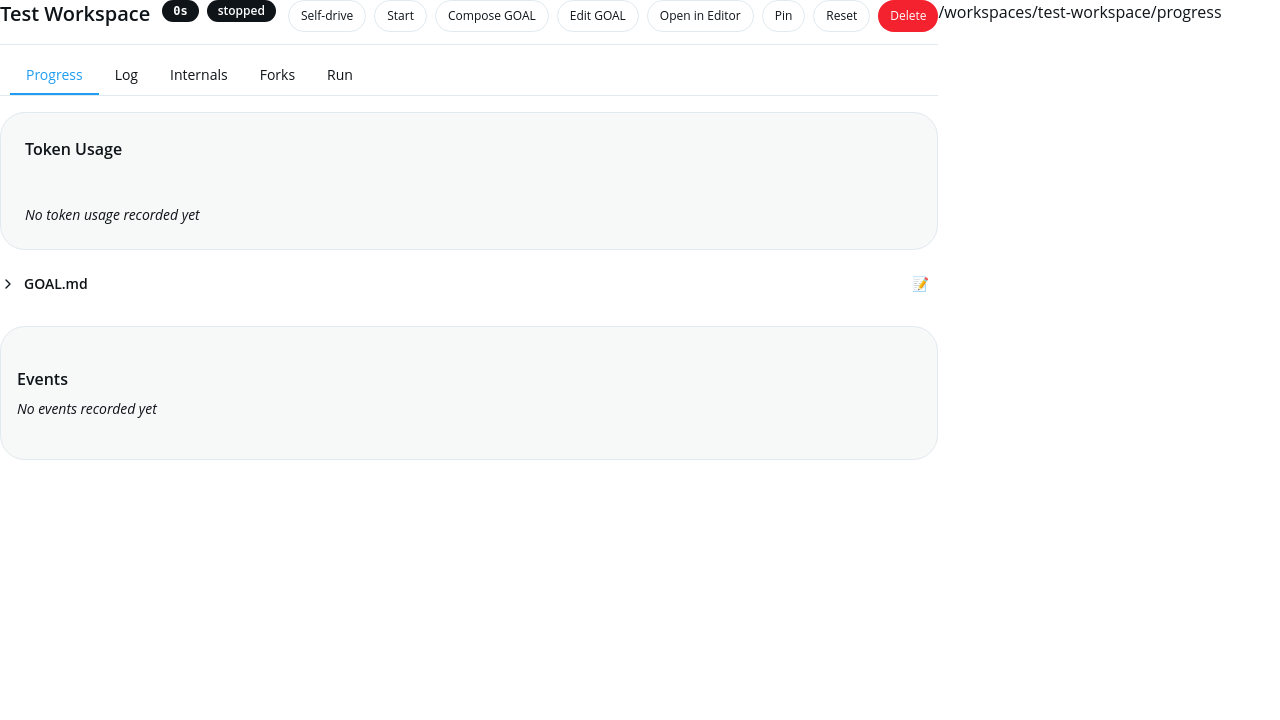
Test case: WorkspaceDetail › delete functionality › opens delete confirmation dialog
Click the button "Delete" at [908, 16], box [878, 0, 938, 32]
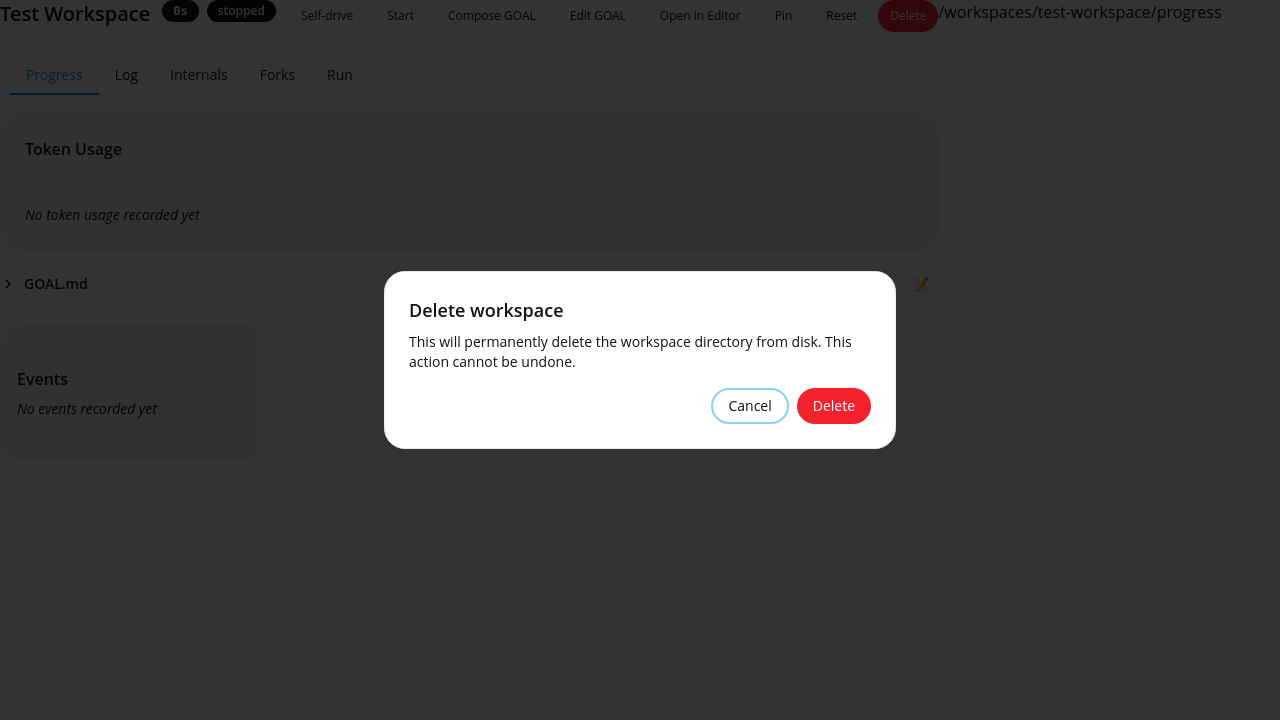
expect the heading "Delete workspace" is shown: met, box [409, 298, 564, 322]
